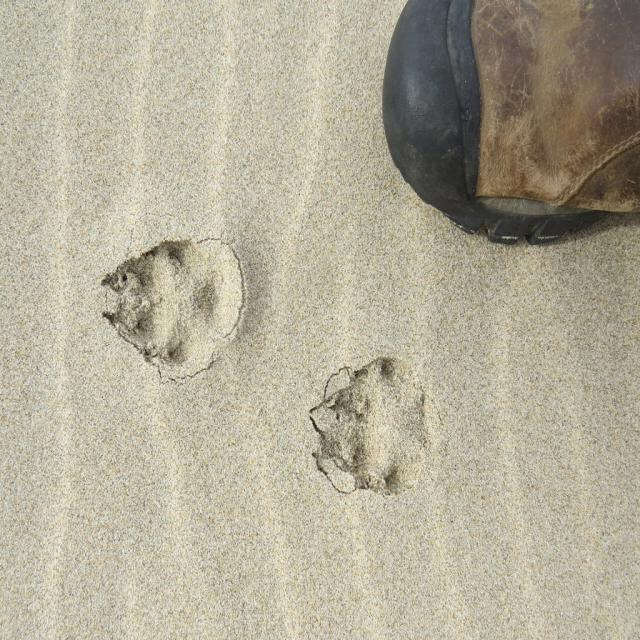canid: (103, 235, 220, 370), (324, 354, 427, 492)
